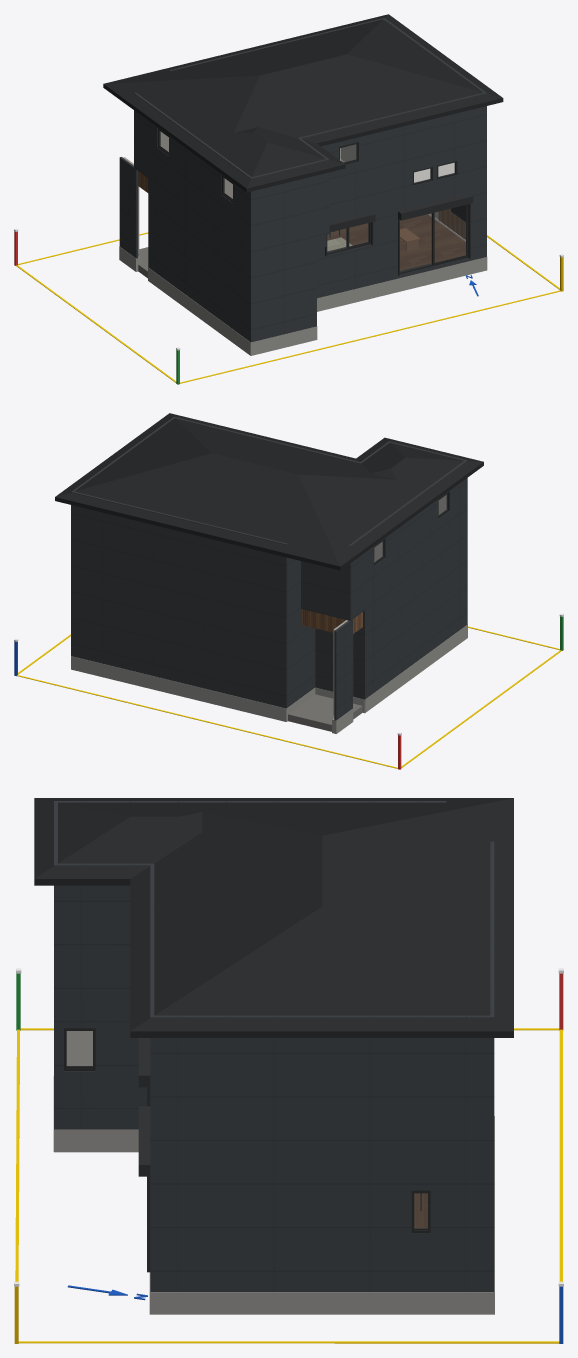
The model's file is A_20_flat.glb.
3 views of the same model, one above another, from view 1: azimuth 30°, elevation 25°; view 2: azimuth 150°, elevation 25°; view 3: azimuth 270°, elevation 25° (orthographic). The views are drawn at different scales.
Visible parts, largest first — view 1: siding, roof, found, glass, floor, shutter, lotline, frame, wall, accent; view 2: siding, roof, found, lotline, tile, woodceil, wall; view 3: siding, roof, found, lotline, shutter, glass, wall, frame.
Boxes of the visible parts, x1=… form: siding: x1=119, y1=18, x2=486, y2=342; roof: x1=103, y1=14, x2=503, y2=192; found: x1=119, y1=246, x2=487, y2=355; glass: x1=160, y1=132, x2=465, y2=271; floor: x1=327, y1=214, x2=465, y2=270; shutter: x1=325, y1=193, x2=473, y2=275; lotline: x1=16, y1=232, x2=560, y2=383; frame: x1=158, y1=128, x2=468, y2=274; wall: x1=123, y1=131, x2=438, y2=253; accent: x1=438, y1=208, x2=465, y2=239; siding: x1=71, y1=417, x2=467, y2=720; roof: x1=55, y1=413, x2=483, y2=570; found: x1=71, y1=624, x2=467, y2=733; lotline: x1=17, y1=626, x2=561, y2=768; tile: x1=288, y1=694, x2=362, y2=731; woodceil: x1=302, y1=609, x2=362, y2=633; wall: x1=333, y1=495, x2=446, y2=715; siding: x1=54, y1=801, x2=494, y2=1291; roof: x1=34, y1=798, x2=513, y2=1037; found: x1=53, y1=1076, x2=494, y2=1314; lotline: x1=15, y1=1028, x2=562, y2=1343; shutter: x1=138, y1=1038, x2=150, y2=1272; glass: x1=67, y1=1031, x2=427, y2=1227; wall: x1=66, y1=1031, x2=92, y2=1065; frame: x1=64, y1=1028, x2=430, y2=1233.
Bounding box in the file's own units: 14.14 × 7.01 × 10.42.
31 materials, 6 textured.
